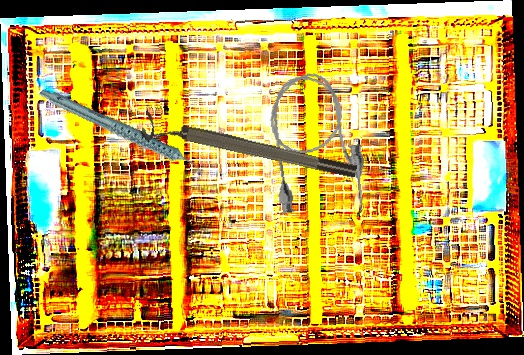Cannula: (260, 66, 372, 226)
Fixation Ring: (139, 109, 359, 191)
Handpiece: (37, 58, 207, 208)
